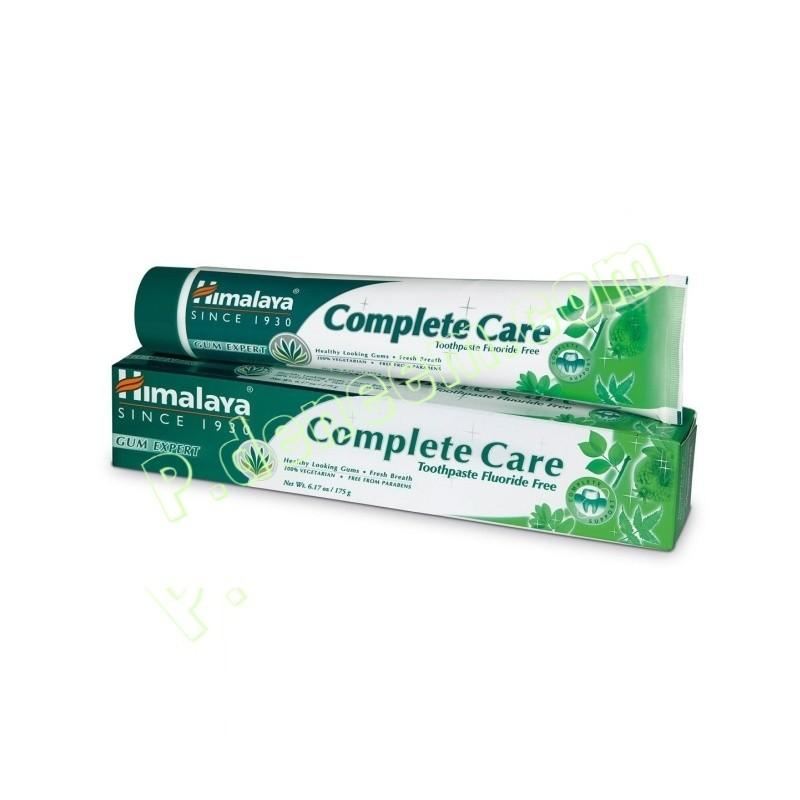toothpaste: (84, 333, 709, 556), (136, 254, 714, 411)
